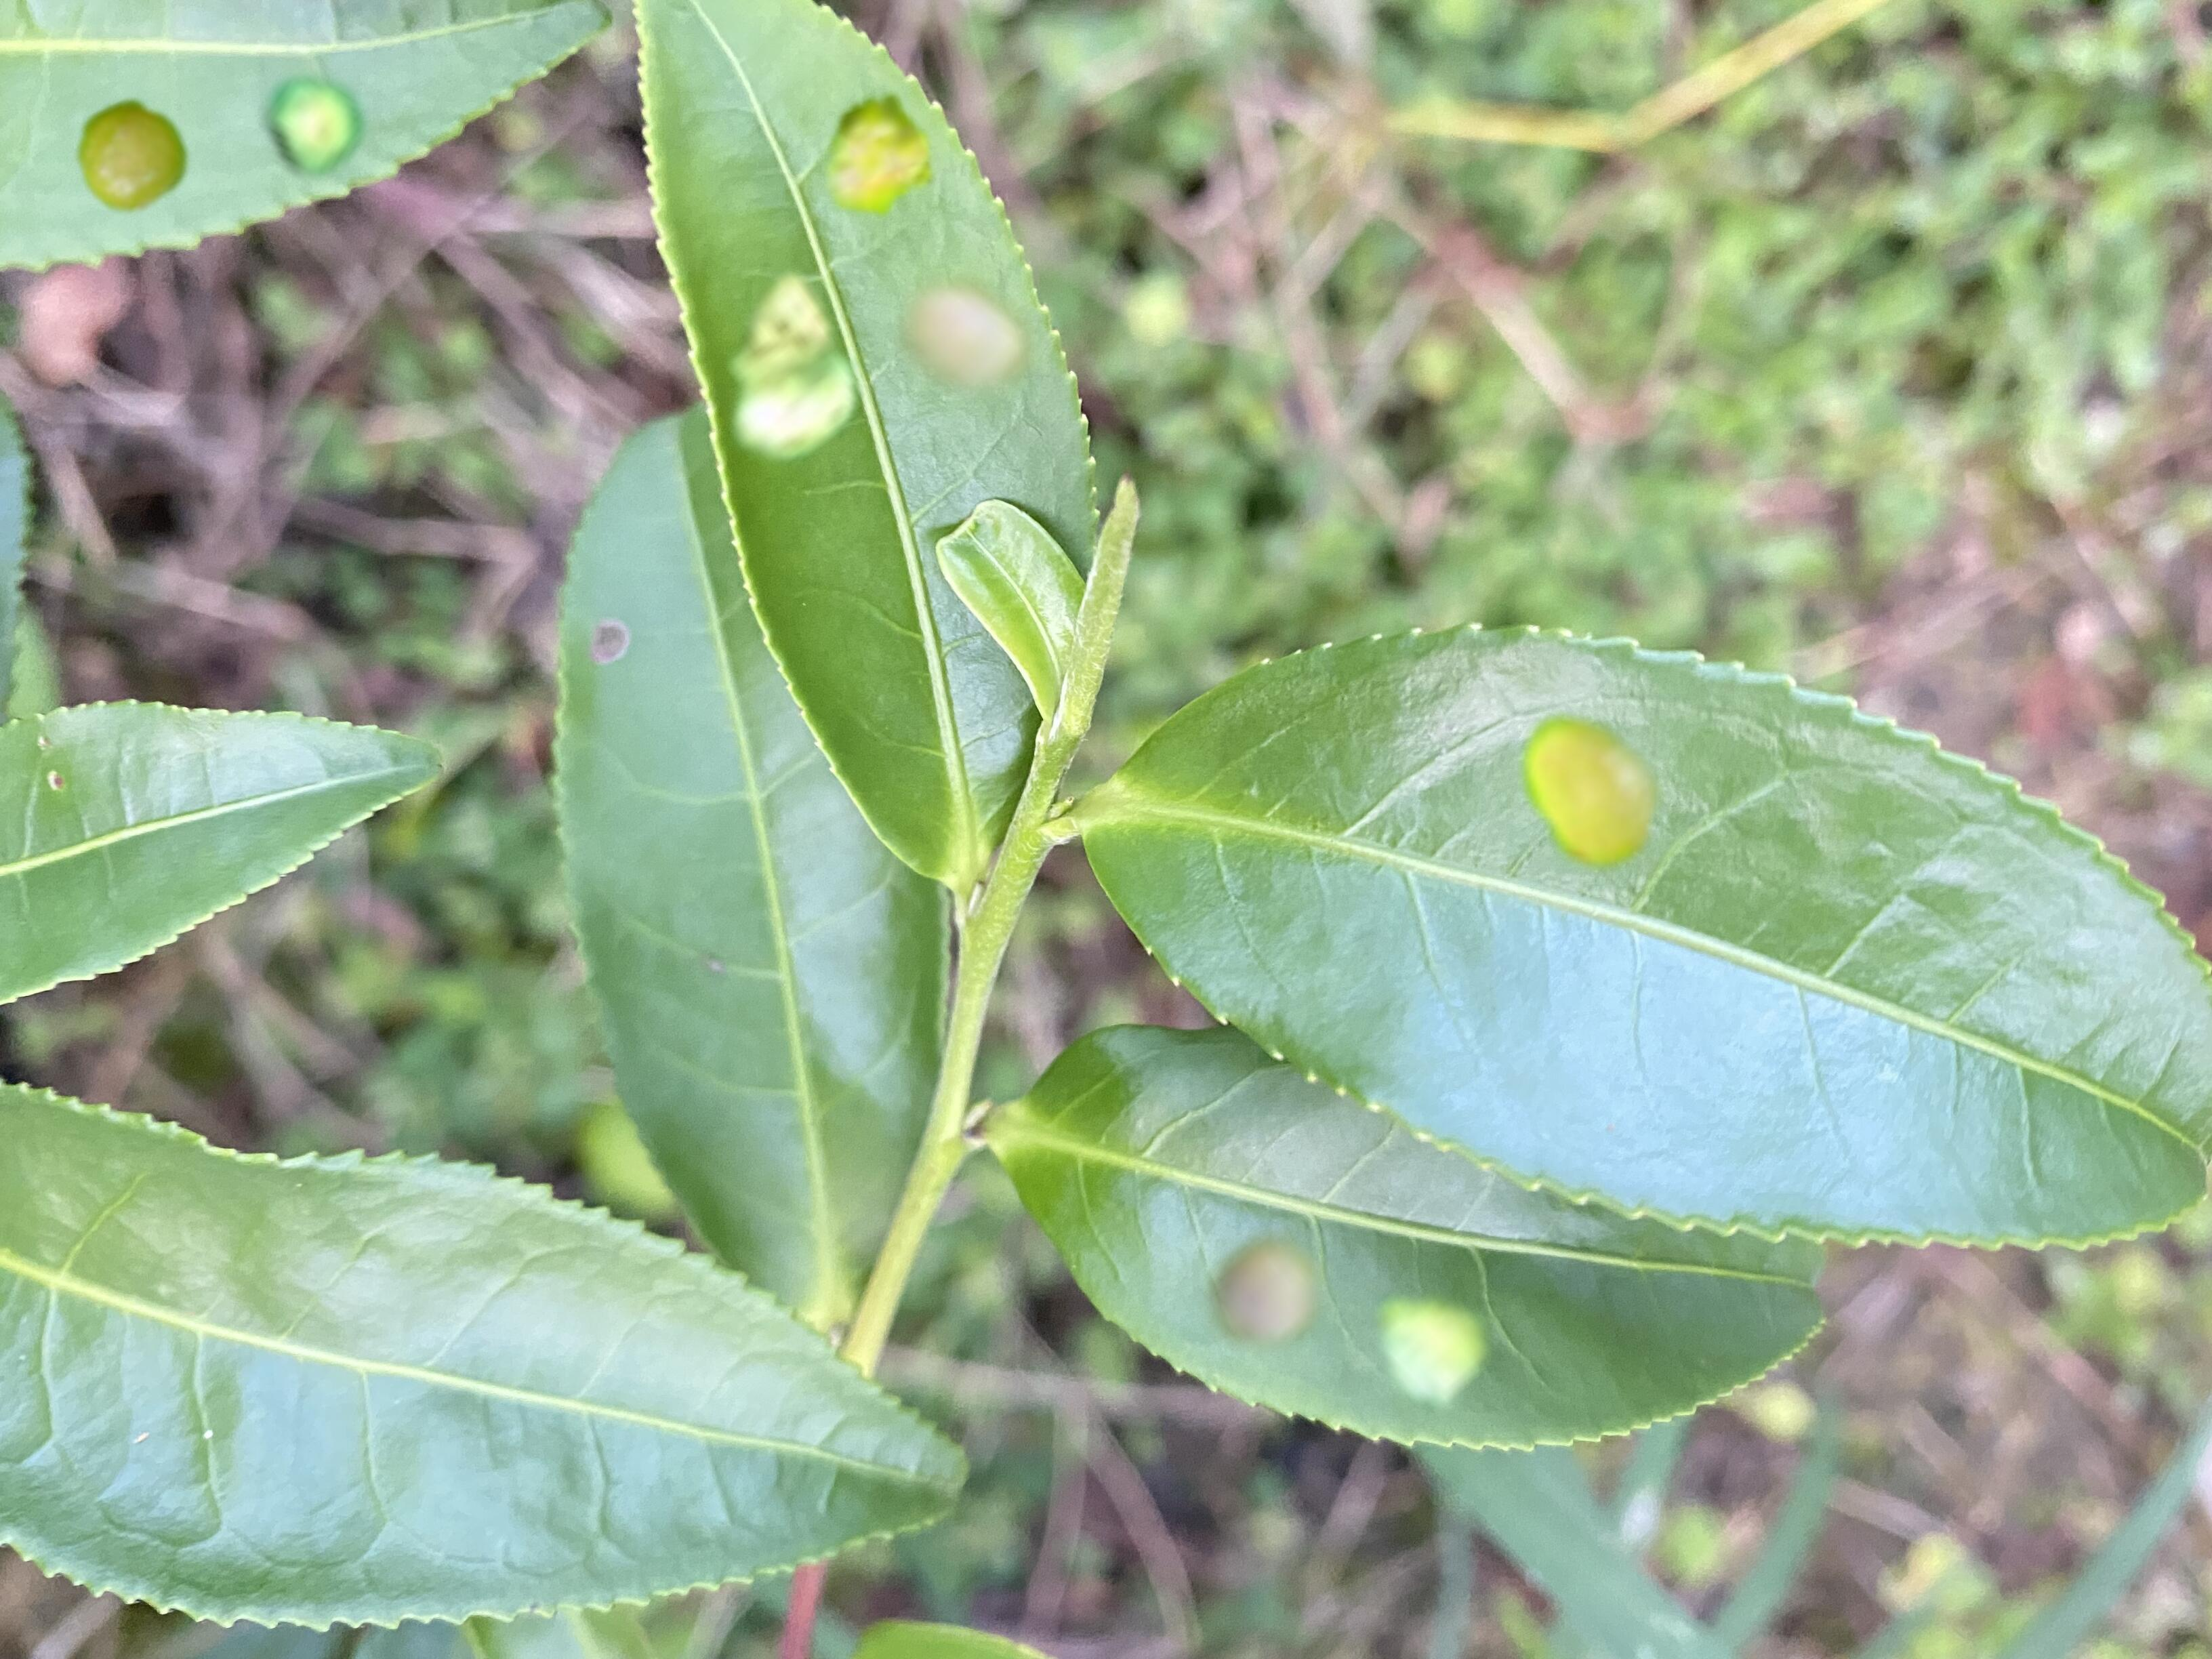chabing_high: (632, 2, 1106, 885), (1019, 1025, 1829, 1453), (2, 0, 615, 275)
chabing_low: (1092, 622, 2210, 1248)
chihuo_low: (550, 411, 951, 1344)
healthy: (5, 1082, 968, 1631)
